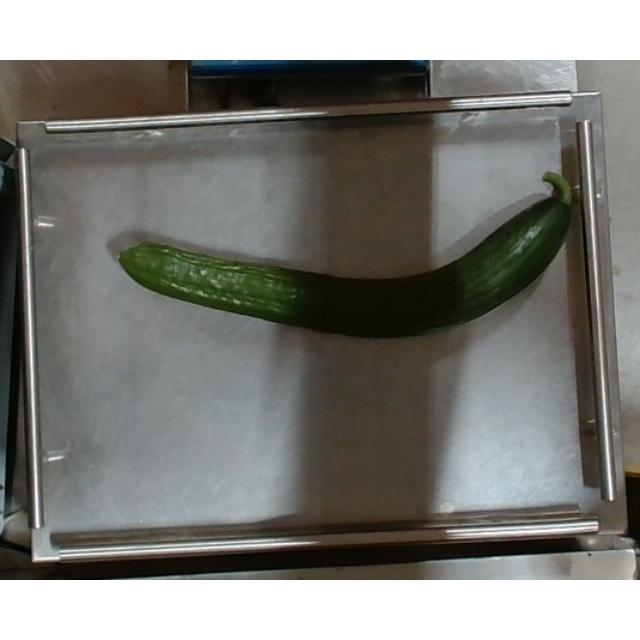cucumber: (114, 166, 580, 344)
